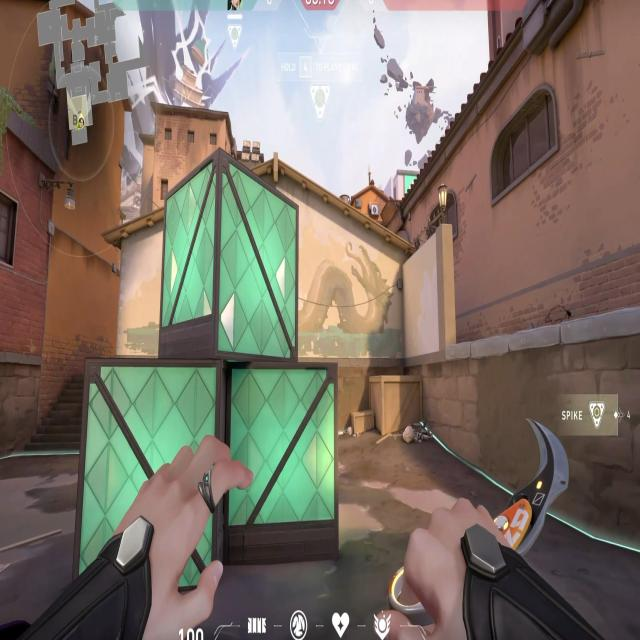B_Site_Box: (163, 192, 340, 576)
